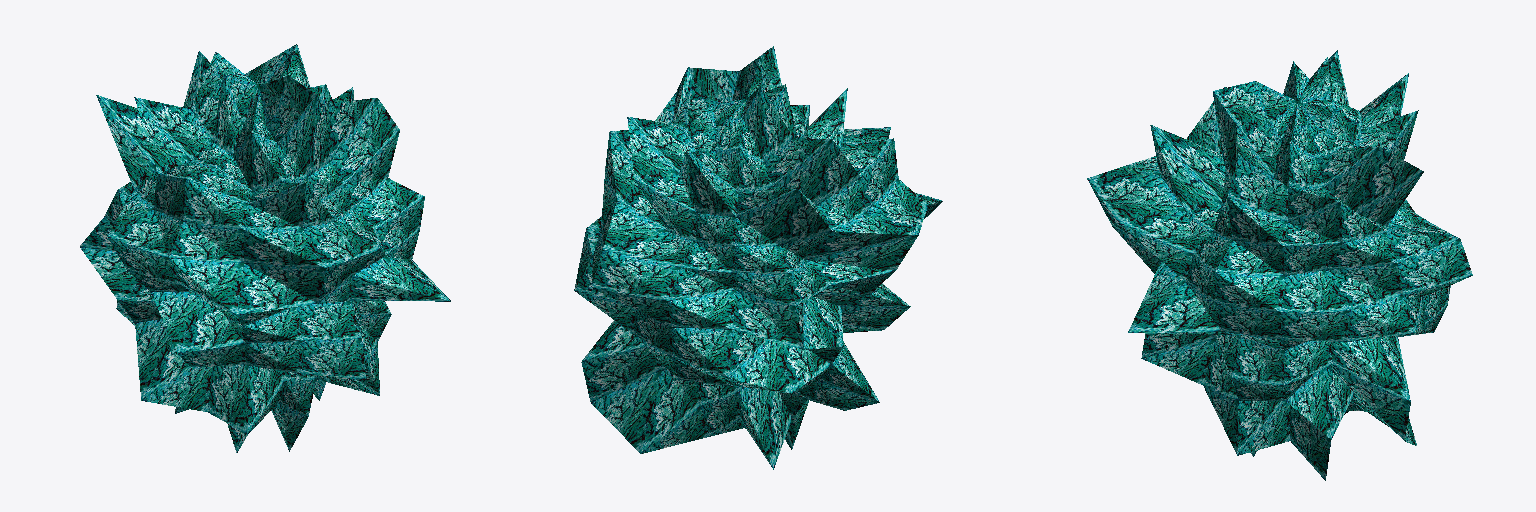
The picture shows the model from 3 angles: view 1: azimuth 30°, elevation 25°; view 2: azimuth 150°, elevation 25°; view 3: azimuth 270°, elevation 25°; orthographic projection.
Parts seen in each view (by area): view 1: Landscape; view 2: Landscape; view 3: Landscape.
Part boxes in pixels (left/top/right/bottom): Landscape: left=80, top=44, right=450, bottom=452; Landscape: left=574, top=46, right=942, bottom=469; Landscape: left=1087, top=50, right=1472, bottom=480.
Bounding box in the file's own units: 8.12 × 9.91 × 9.06.
1 materials, 1 textured.